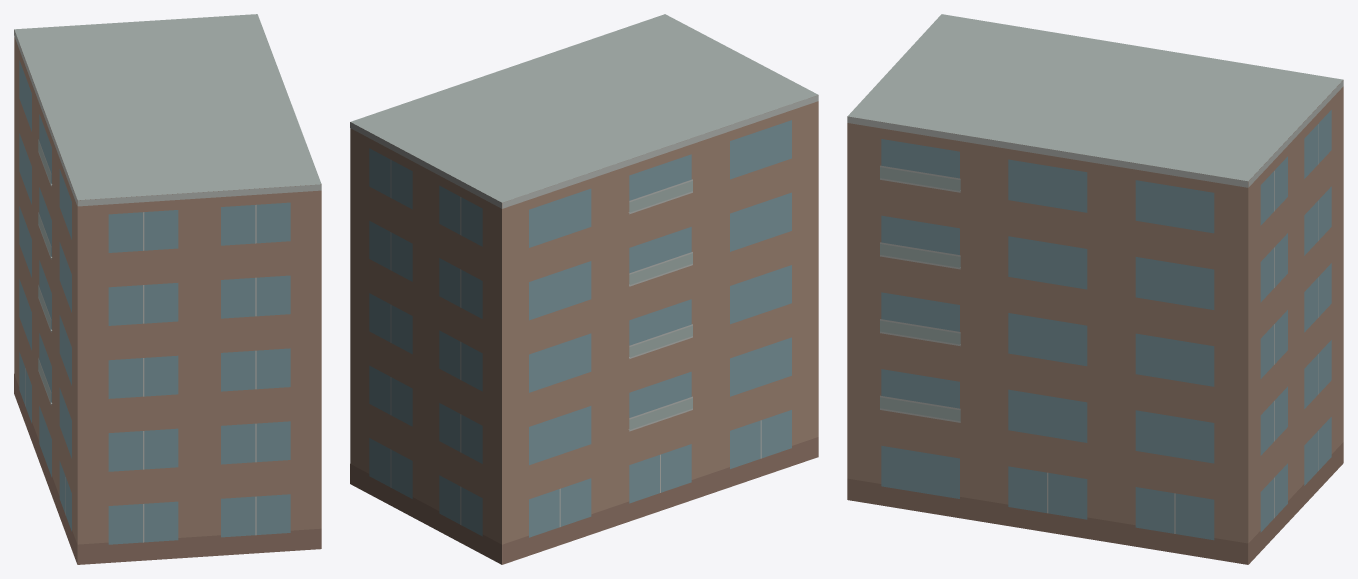
The model's file is survey-upis-33008727.glb.
3 views of the same model, side by side, from view 1: azimuth 30°, elevation 25°; view 2: azimuth 150°, elevation 25°; view 3: azimuth 270°, elevation 25° (orthographic). The views are drawn at different scales.
Visible parts, largest first — view 1: survey-upis-33008727.tmp; view 2: survey-upis-33008727.tmp; view 3: survey-upis-33008727.tmp.
Boxes of the visible parts, left/top/right/bottom form: survey-upis-33008727.tmp: left=14, top=14, right=321, bottom=564; survey-upis-33008727.tmp: left=350, top=14, right=818, bottom=564; survey-upis-33008727.tmp: left=847, top=14, right=1343, bottom=564.
Bounding box in the file's own units: 13.39 × 14.3 × 16.77.
